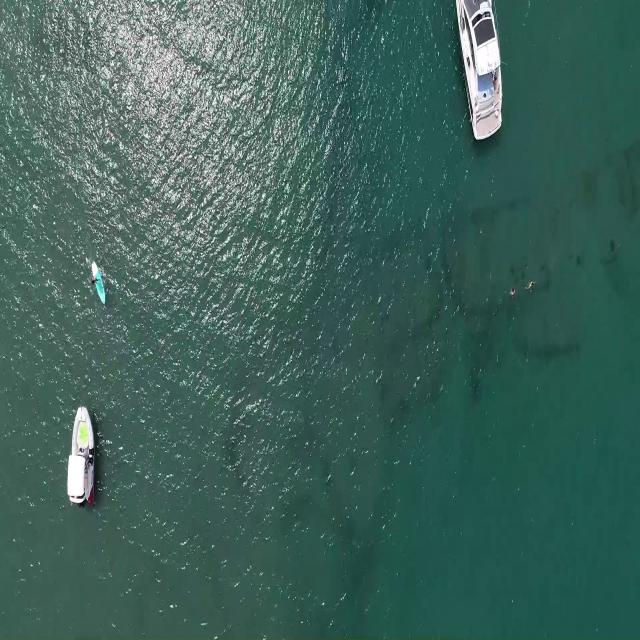boat: (455, 0, 505, 141), (65, 397, 97, 514)
person: (525, 279, 539, 293), (89, 273, 100, 288), (509, 286, 517, 296)
surfboard: (90, 258, 106, 309)
